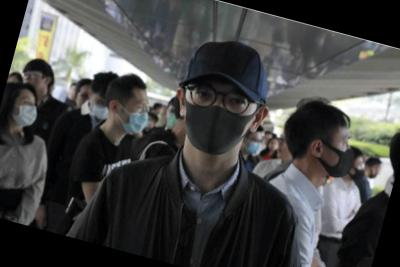with_mask: (176, 75, 261, 161), (316, 128, 364, 184), (114, 94, 155, 137), (8, 92, 43, 131), (87, 94, 114, 123), (348, 158, 369, 186), (245, 135, 265, 157)
without_mask: (21, 68, 48, 97)
